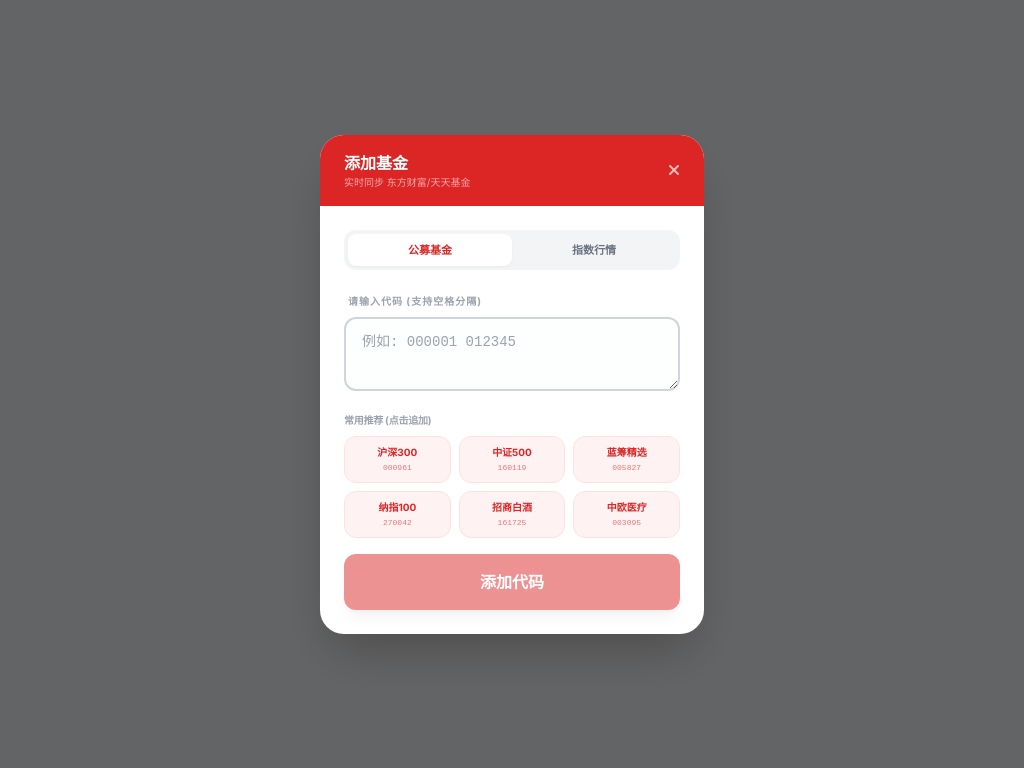
Test: AddTickerModal › shows alert modal on invalid index code
// Switch to index tab first
Click the button "指数行情" at point(594, 250), box [512,234,676,266]
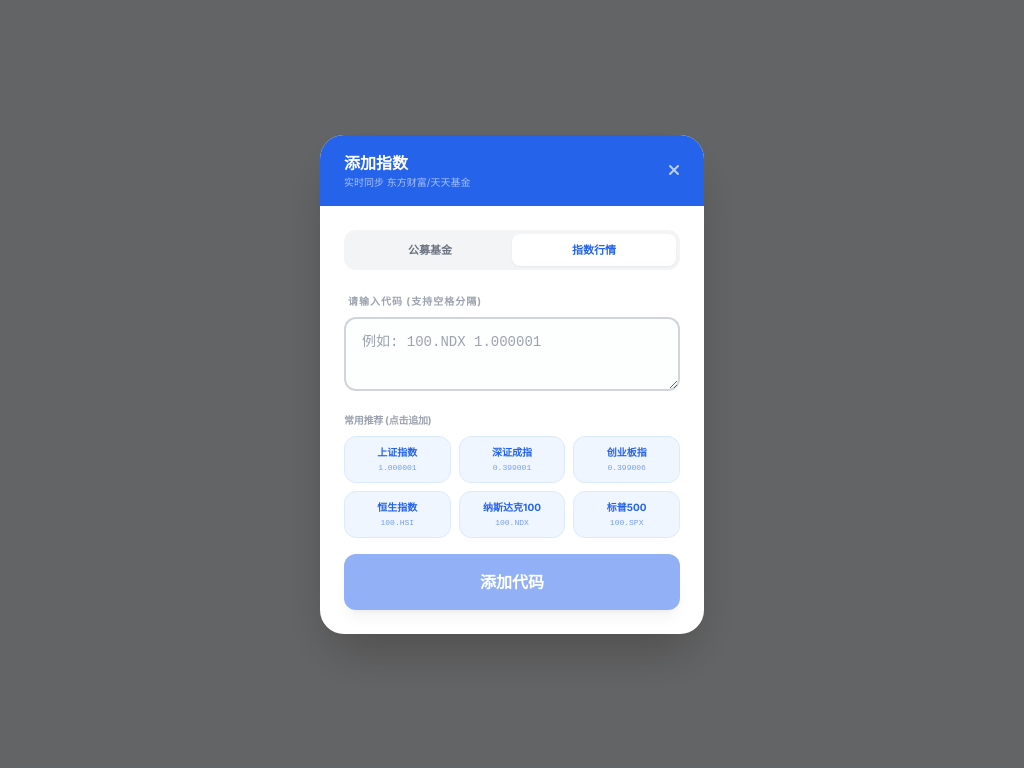
// input invalid index code like "abc"
Type "abc" into the text box with placeholder "例如: 100.NDX 1.000001" at point(512, 354), box [344,317,680,390]
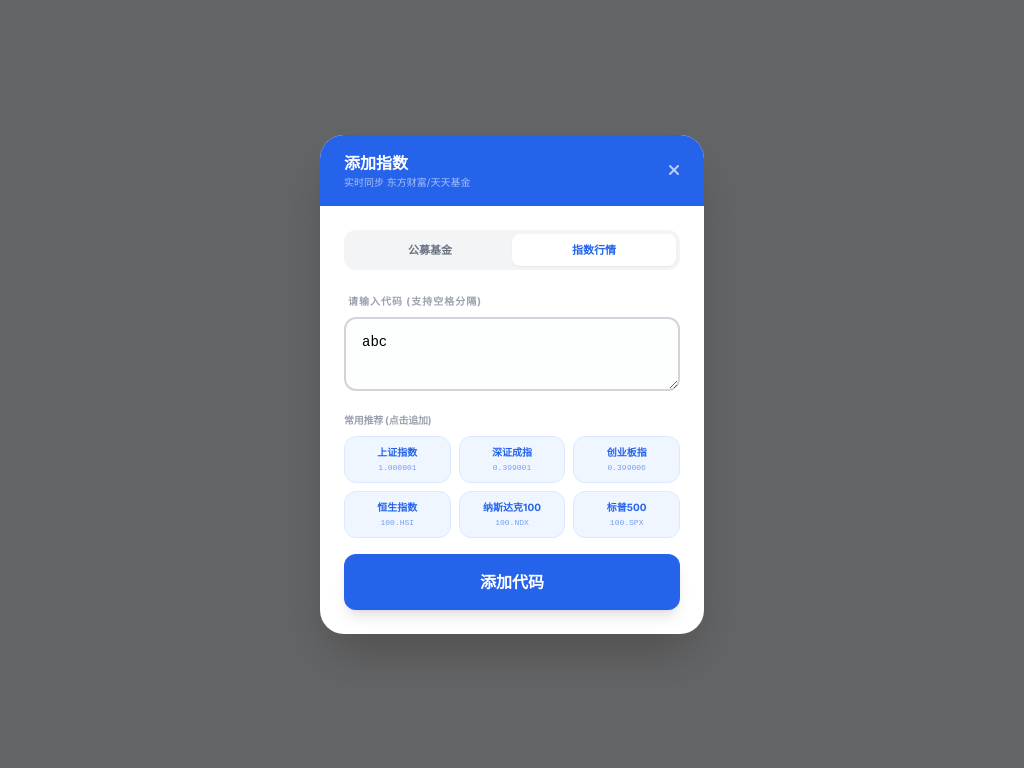
Click the button "添加代码" at point(512, 582), box [344,554,680,610]
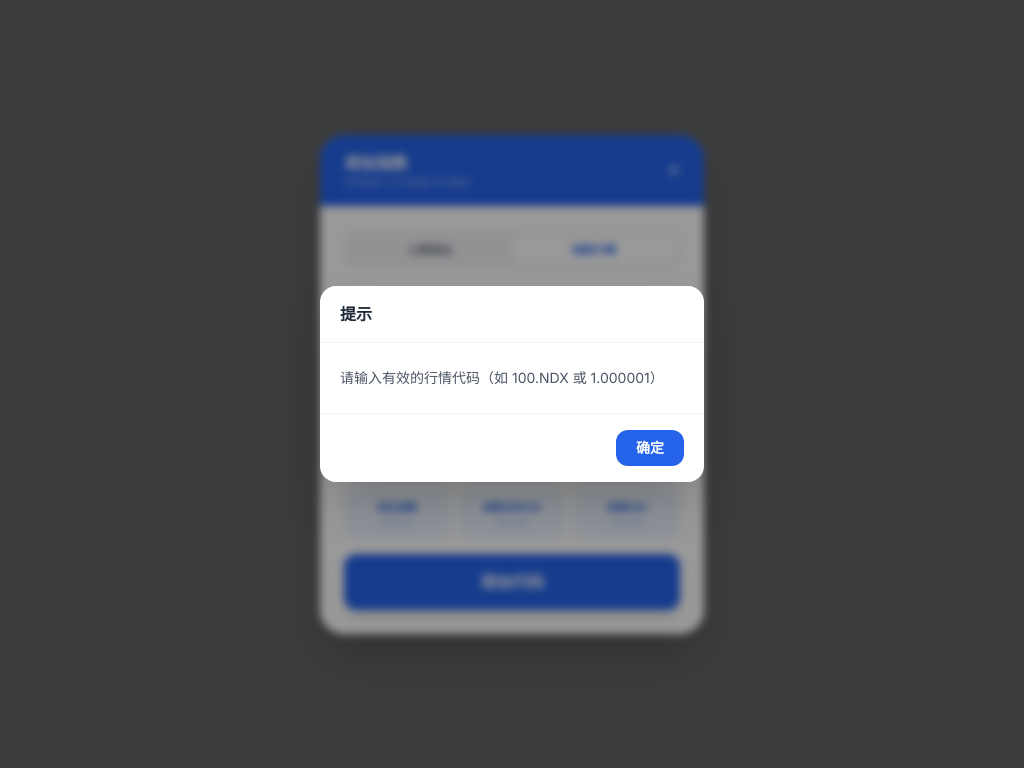
Now the text "请输入有效的行情代码（如 100.NDX 或 1.000001）" is shown, box [340,367,684,389]
